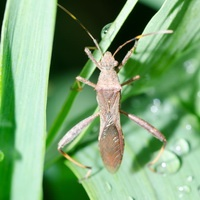insect: (58, 4, 172, 178)
